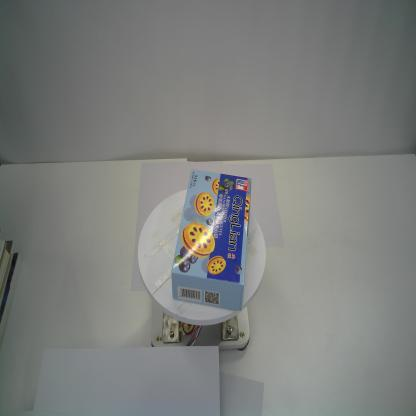Dessert: (171, 168, 252, 312)
